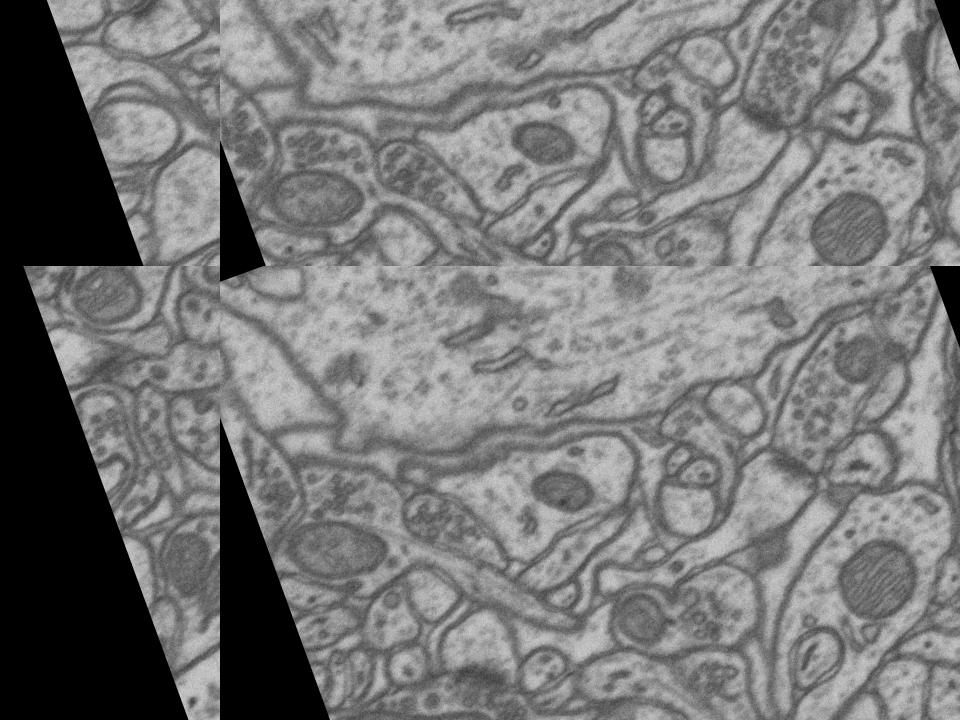mitochondria: (815, 514, 957, 644), (237, 147, 370, 264), (264, 496, 396, 613), (789, 165, 931, 266), (327, 660, 509, 720), (810, 310, 908, 406), (502, 446, 599, 534), (476, 98, 573, 185), (604, 580, 690, 674), (59, 266, 149, 338), (148, 525, 220, 606), (784, 0, 882, 57), (577, 231, 663, 266), (188, 538, 220, 617)
